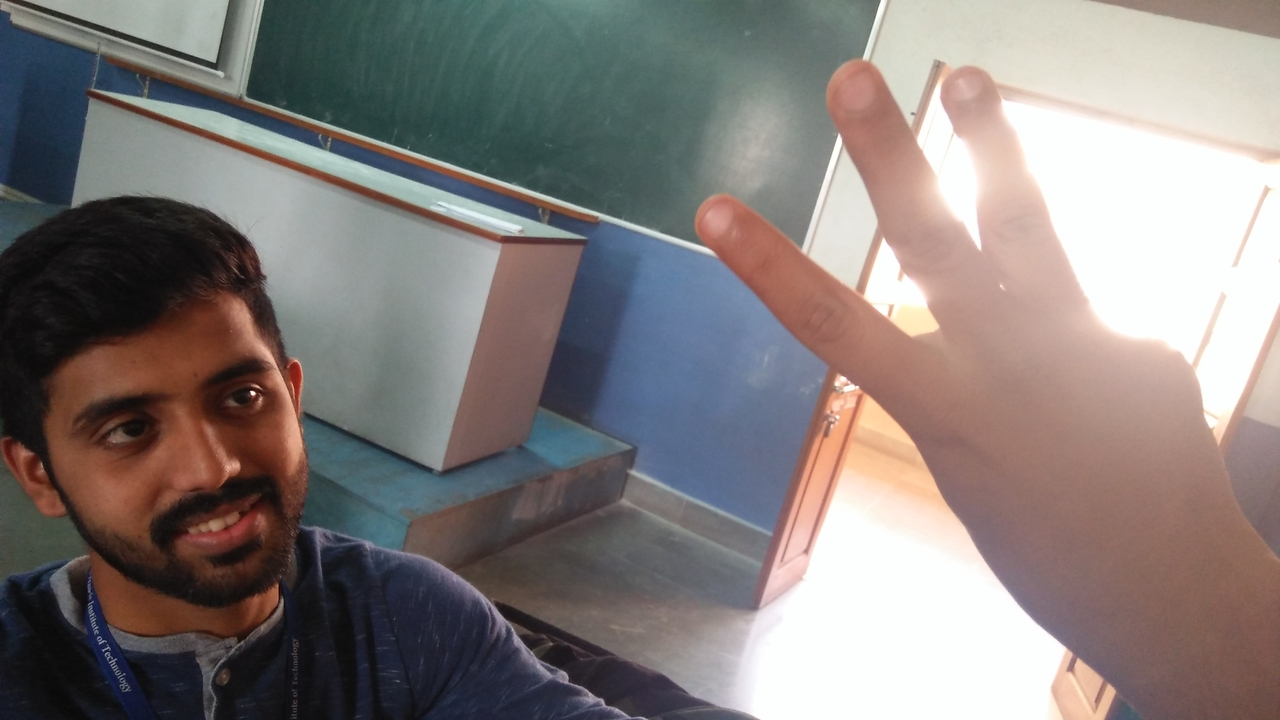fingertip: (936, 62, 1014, 126), (688, 186, 760, 242), (824, 58, 890, 112)
